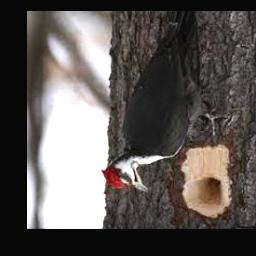Woodpecker: (101, 12, 226, 193)
